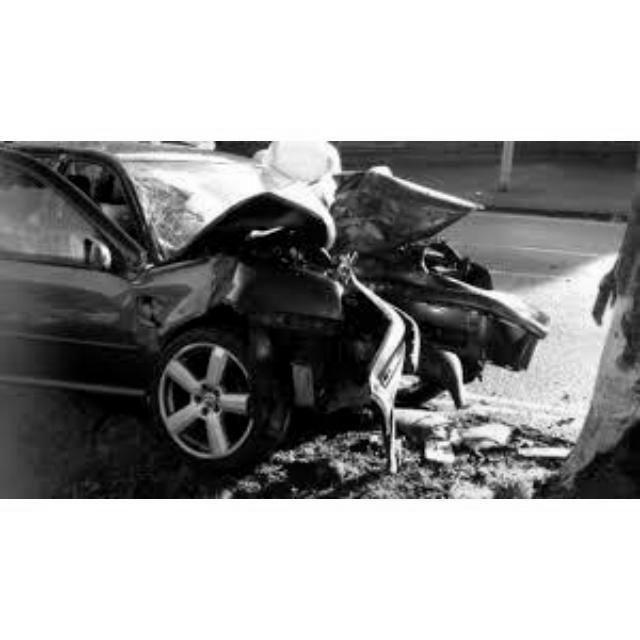bonnet-dent: (216, 175, 457, 277)
fender-dent: (154, 274, 275, 348)
